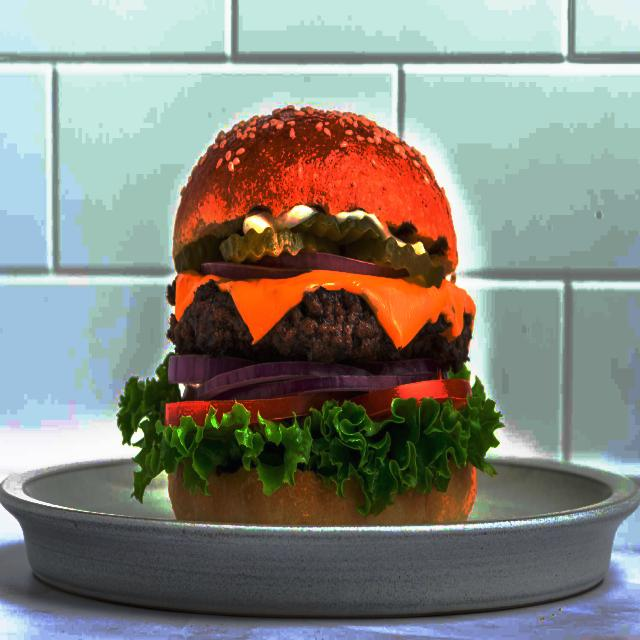burger: (124, 107, 502, 524)
